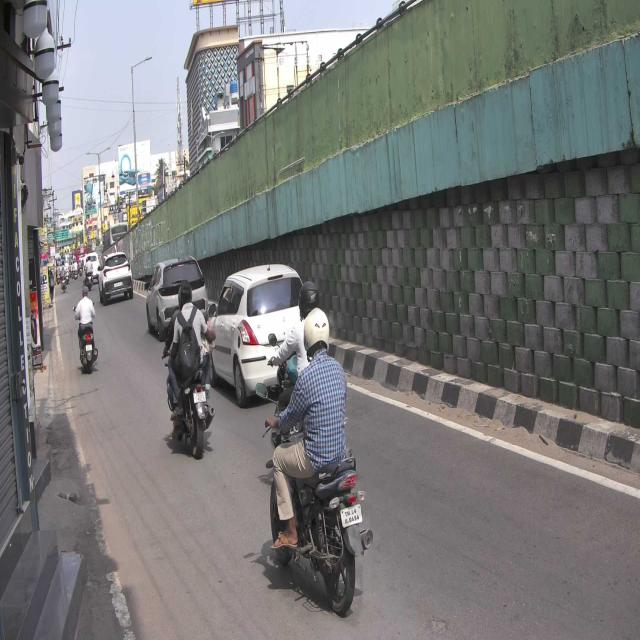single_rider: (266, 311, 371, 617)
